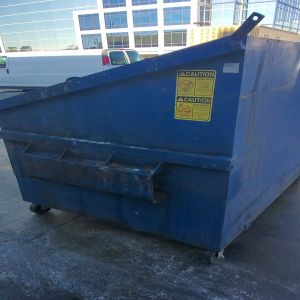Dumpster: (9, 67, 300, 264)
